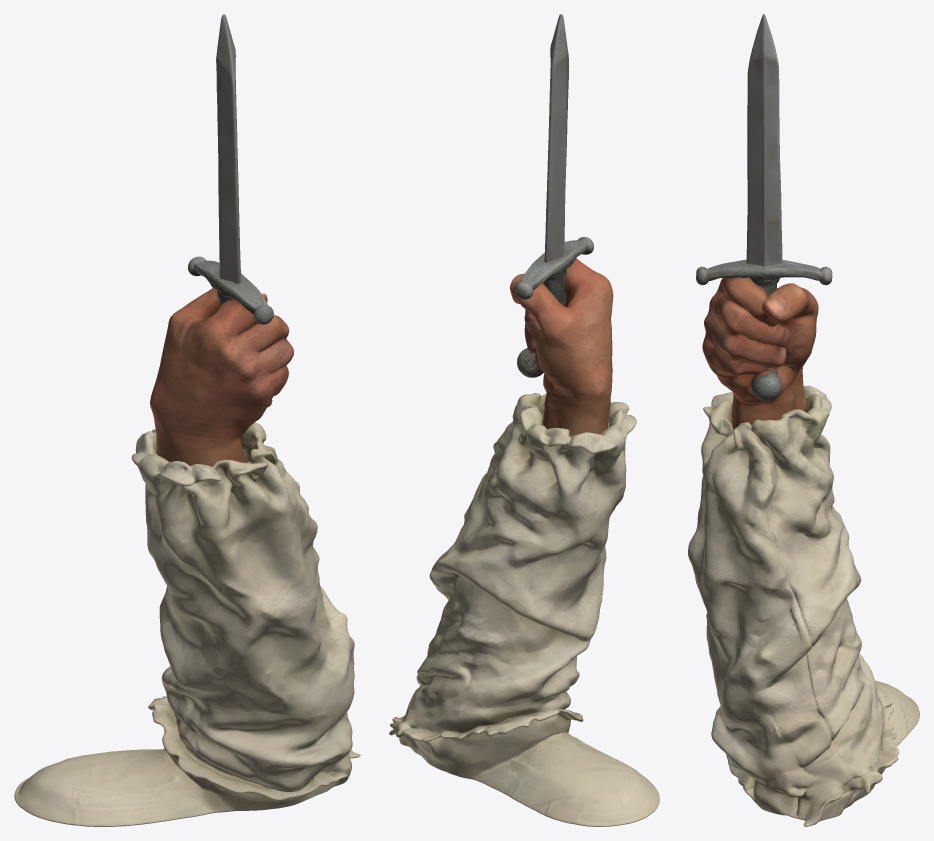
The picture shows the model from 3 angles, left to right: view 1: azimuth 30°, elevation 25°; view 2: azimuth 150°, elevation 25°; view 3: azimuth 270°, elevation 25°; orthographic projection. The views are drawn at different scales.
Parts seen in each view (by area): view 1: tripo_node_adbd25ba-4679-471b-a3df-4c311951039d; view 2: tripo_node_adbd25ba-4679-471b-a3df-4c311951039d; view 3: tripo_node_adbd25ba-4679-471b-a3df-4c311951039d.
Part boxes in pixels (<box>): tripo_node_adbd25ba-4679-471b-a3df-4c311951039d: <box>14,14,360,826</box>; tripo_node_adbd25ba-4679-471b-a3df-4c311951039d: <box>389,14,659,826</box>; tripo_node_adbd25ba-4679-471b-a3df-4c311951039d: <box>688,14,919,826</box>.
Size of the model in its own units: 0.4046 by 1 by 0.2836.
Materials: 1 (1 with a texture image).
